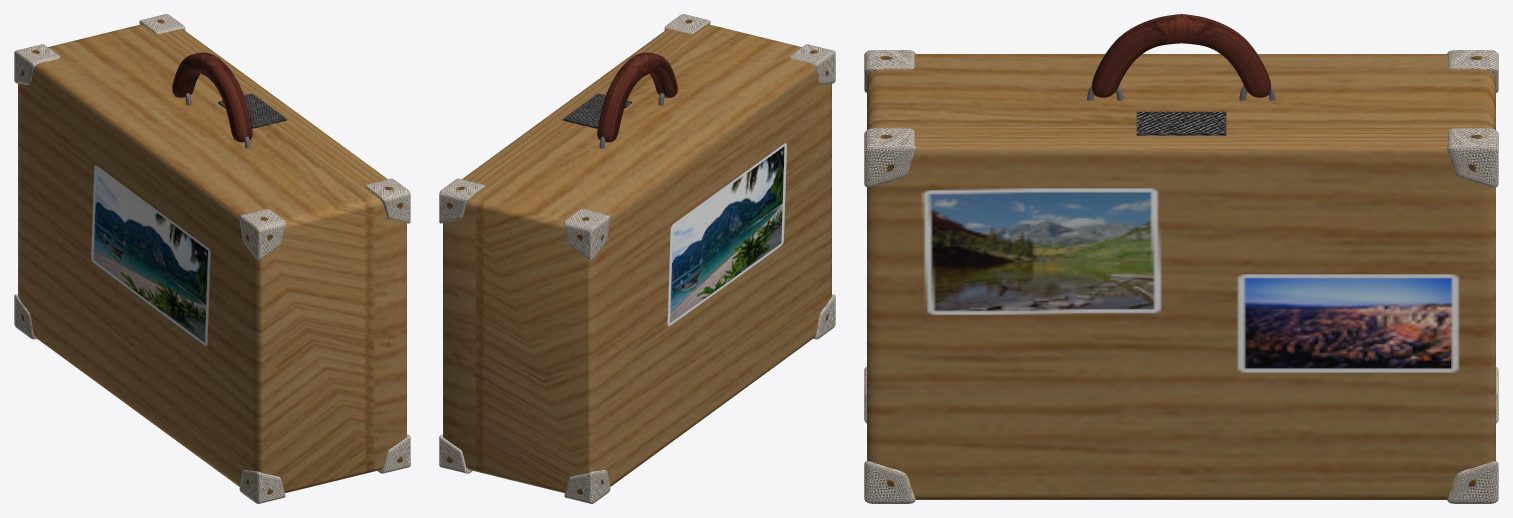
The model's file is bag.fbx.
The picture shows the model from 3 angles, left to right: view 1: azimuth 30°, elevation 25°; view 2: azimuth 150°, elevation 25°; view 3: azimuth 270°, elevation 25°; orthographic projection. The views are drawn at different scales.
Visible parts, largest first — view 1: Cube.002, Cube.001, Cube.003, Cube, Cube.005; view 2: Cube.002, Cube.001, Cube.003, Cube, Cube.005; view 3: Cube.001, Cube.002, Cube.003, Cube, Cube.005.
Boxes of the visible parts, x1,y1,x2,y2 form: Cube.002: (18,26,374,493); Cube.001: (134,24,406,471); Cube.003: (14,14,410,503); Cube: (172,52,252,142); Cube.005: (218,93,286,128); Cube.002: (475,26,831,493); Cube.001: (443,24,715,471); Cube.003: (439,14,835,503); Cube: (597,52,677,142); Cube.005: (563,93,631,128); Cube.001: (867,125,1495,499); Cube.002: (867,54,1495,129); Cube.003: (864,50,1498,503); Cube: (1092,14,1270,97); Cube.005: (1136,111,1226,135).
Size of the model in its own units: 193 by 407 by 531.
Materials: 1 (1 with a texture image).
